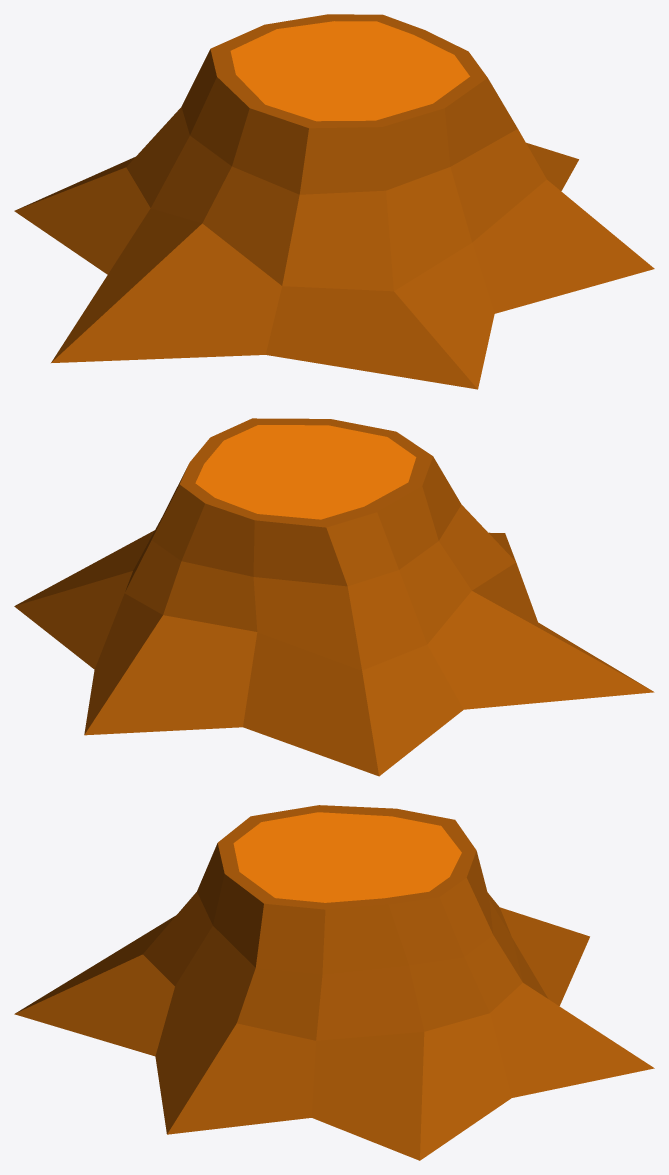
File: Stump.fbx
3 renders of one model, top to bottom at view 1: azimuth 30°, elevation 25°; view 2: azimuth 150°, elevation 25°; view 3: azimuth 270°, elevation 25°, orthographic. The views are drawn at different scales.
Visible parts, largest first — view 1: Stump; view 2: Stump; view 3: Stump.
Boxes of the visible parts, x1,y1,x2,y2 form: Stump: [14, 14, 654, 389]; Stump: [14, 418, 654, 776]; Stump: [14, 805, 654, 1160].
Bounding box in the file's own units: 3.15 × 2.99 × 0.9079.
